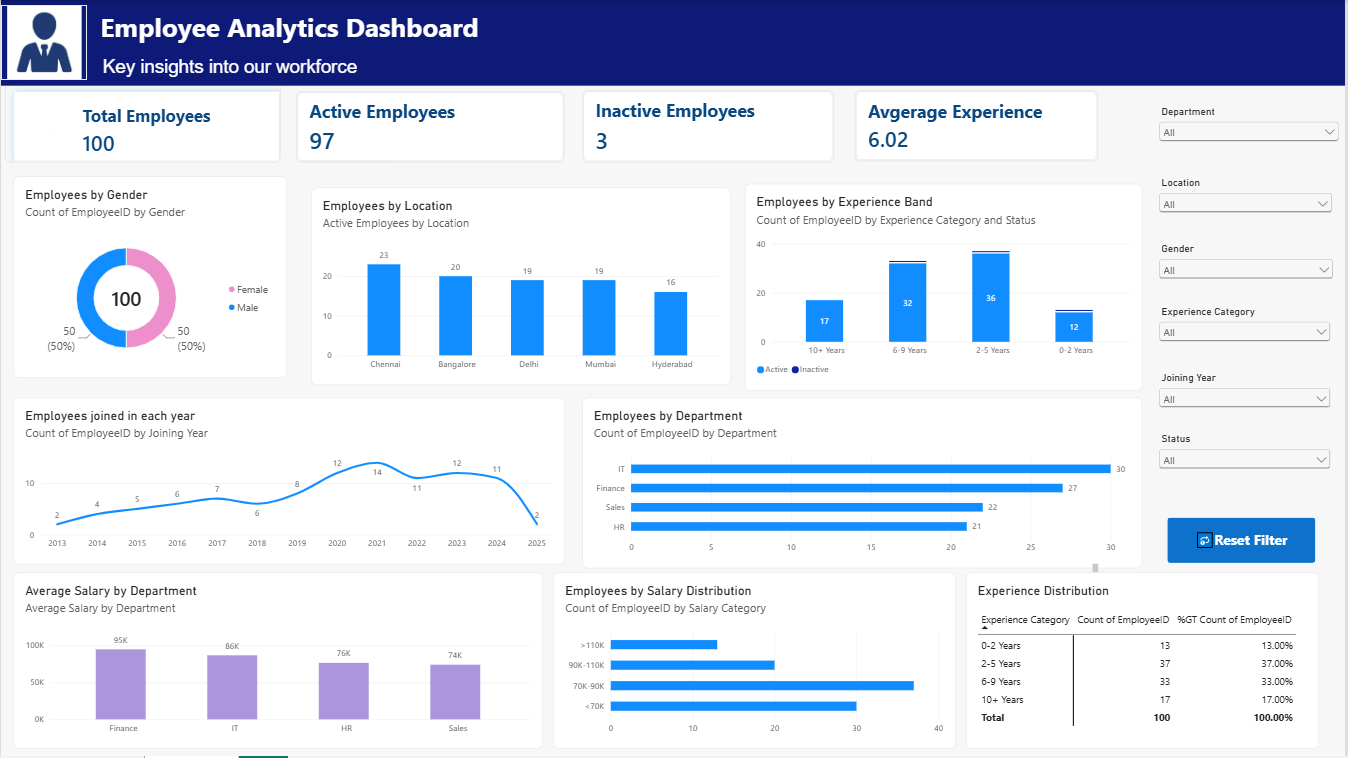

The dashboard page shown, as its layout file describes it:
{"tool":"powerbi","page":{"name":"Page 1","canvas":[1920,1080],"ordinal":0},"visuals":[{"type":"columnChart","title":"Employees by Location","fields":{"Category":["Employees.Location"],"Y":["Employees.Active Employees"]},"box":[442,268,600,282],"z":0},{"type":"cardVisual","fields":{"Data":["Employees.Active Employees"]},"box":[422,130,384,102],"z":1000},{"type":"cardVisual","fields":{"Data":["Employees.Total Employees"]},"box":[6,118,394,114],"z":2000},{"type":"clusteredBarChart","title":"Employees by Department","fields":{"Category":["Employees.Department"],"Y":["CountNonNull(Employees.EmployeeID)"]},"box":[830,568,800,244],"z":3000},{"type":"columnChart","title":"Average Salary by Department","fields":{"Category":["Employees.Department"],"Y":["Employees.Average Salary"]},"box":[18,818,756,252],"z":4000},{"type":"clusteredBarChart","title":"Employees by Salary Distribution","fields":{"Category":["Employees.Salary Category"],"Y":["CountNonNull(Employees.EmployeeID)"]},"box":[790,818,574,252],"z":5000},{"type":"cardVisual","fields":{"Data":["Employees.Avgerage Experience"]},"box":[1220,128,348,102],"z":6000},{"type":"columnChart","title":"Employees by Experience Band","fields":{"Category":["Employees.Experience Category"],"Series":["Employees.Status"],"Y":["CountNonNull(Employees.EmployeeID)"]},"box":[1062,262,568,296],"z":7000},{"type":"donutChart","title":"Employees by Gender","fields":{"Category":["Employees.Gender"],"Y":["CountNonNull(Employees.EmployeeID)"]},"box":[18,252,390,288],"z":8000},{"type":"lineChart","title":"Employees joined in each year","fields":{"Category":["Employees.Joining Year"],"Y":["CountNonNull(Employees.EmployeeID)"]},"box":[18,568,788,238],"z":9000},{"type":"shape","box":[0,0,1920,122.5],"z":10000},{"type":"textbox","box":[114,12,596,74],"z":11000},{"type":"textbox","box":[1555,805,12,12],"z":12000},{"type":"slicer","fields":{"Values":["Employees.Department"]},"box":[1650,150,266,60],"z":13000},{"type":"slicer","fields":{"Values":["Employees.Gender"]},"box":[1650,346,258,56],"z":14000},{"type":"slicer","fields":{"Values":["Employees.Location"]},"box":[1650,252,256,58],"z":15000},{"type":"slicer","fields":{"Values":["Employees.Experience Category"]},"box":[1650,436,254,56],"z":16000},{"type":"slicer","fields":{"Values":["Employees.Joining Year"]},"box":[1650,530,254,52],"z":17000},{"type":"slicer","fields":{"Values":["Employees.Status"]},"box":[1650,618,254,56],"z":18000},{"type":"pivotTable","title":"Experience Distribution","fields":{"Rows":["Employees.Experience Category"],"Values":["CountNonNull(Employees.EmployeeID)","Divide(CountNonNull(Employees.EmployeeID), ScopedEval(CountNonNull(Employees.EmployeeID), []))"]},"box":[1378,818,504,252],"z":19000},{"type":"cardVisual","fields":{"Data":["Employees.Inactive Employees"]},"box":[830,128,360,104],"z":20000},{"type":"actionButton","box":[1666,740,211.7,65],"z":21000},{"type":"textbox","box":[91,80,472,50],"z":22000},{"type":"image","box":[0,8,124,106],"z":23000}]}

Visuals, with their boxes in screenshot pixels (x1, y1, x2, y2), scaled from the page's 1920x1080 canvas onto the 1348x758 screenshot:
"Employees by Location" columnChart: Rect(310, 188, 732, 386)
cardVisual - Employees.Active Employees: Rect(296, 91, 566, 163)
cardVisual - Employees.Total Employees: Rect(4, 83, 281, 163)
"Employees by Department" clusteredBarChart: Rect(583, 399, 1144, 570)
"Average Salary by Department" columnChart: Rect(13, 574, 543, 751)
"Employees by Salary Distribution" clusteredBarChart: Rect(555, 574, 958, 751)
cardVisual - Employees.Avgerage Experience: Rect(857, 90, 1101, 161)
"Employees by Experience Band" columnChart: Rect(746, 184, 1144, 392)
"Employees by Gender" donutChart: Rect(13, 177, 286, 379)
"Employees joined in each year" lineChart: Rect(13, 399, 566, 566)
shape: Rect(0, 0, 1347, 86)
textbox: Rect(80, 8, 498, 60)
textbox: Rect(1092, 565, 1100, 573)
slicer - Employees.Department: Rect(1158, 105, 1345, 147)
slicer - Employees.Gender: Rect(1158, 243, 1340, 282)
slicer - Employees.Location: Rect(1158, 177, 1338, 218)
slicer - Employees.Experience Category: Rect(1158, 306, 1337, 345)
slicer - Employees.Joining Year: Rect(1158, 372, 1337, 408)
slicer - Employees.Status: Rect(1158, 434, 1337, 473)
"Experience Distribution" pivotTable: Rect(967, 574, 1321, 751)
cardVisual - Employees.Inactive Employees: Rect(583, 90, 835, 163)
actionButton: Rect(1170, 519, 1318, 565)
textbox: Rect(64, 56, 395, 91)
image: Rect(0, 6, 87, 80)
